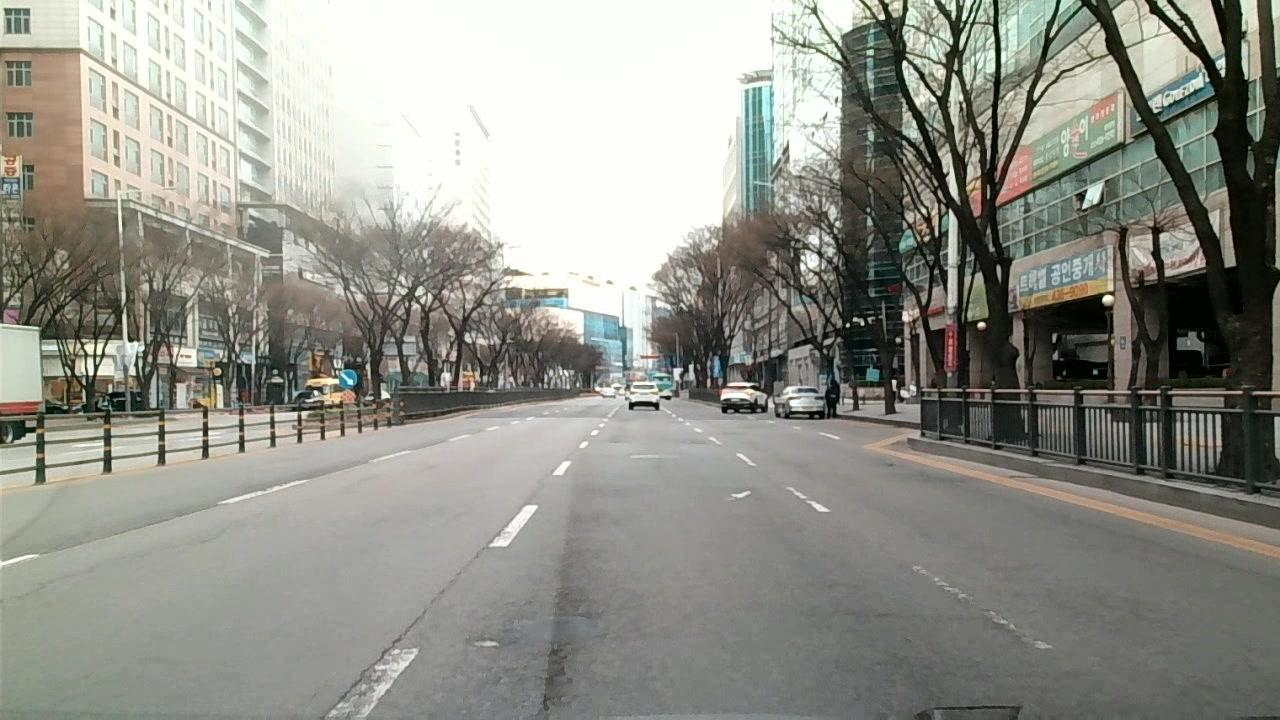erosion: (482, 564, 606, 720)
vcrack: (311, 573, 465, 720)
